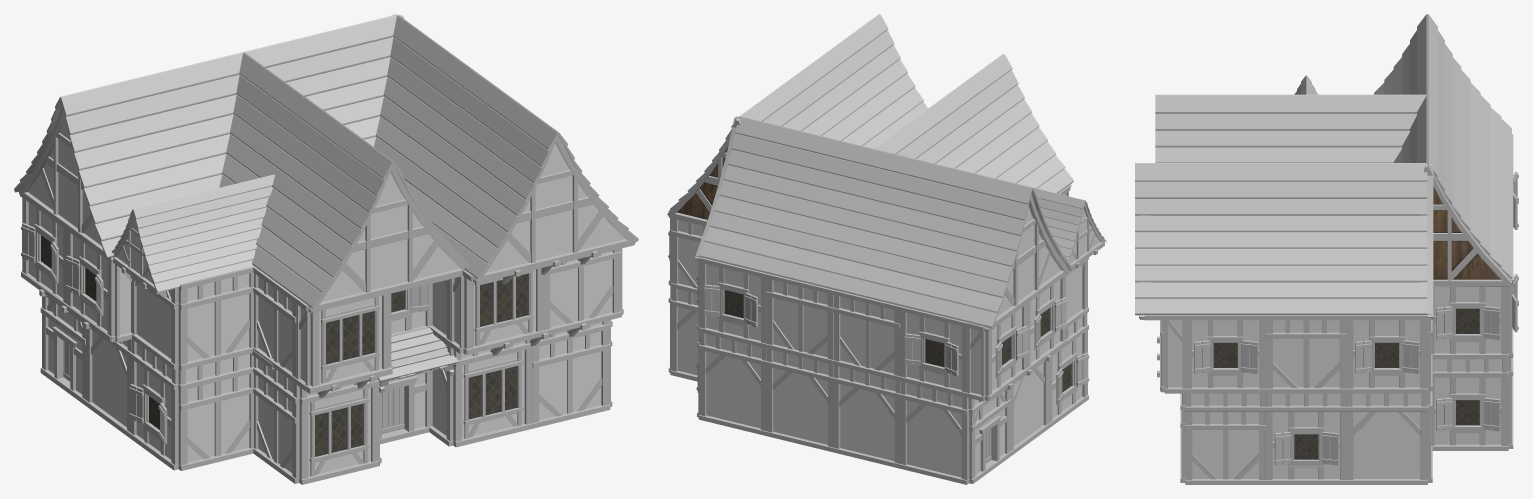
Rendered from Tavern_1A1.fbx.
The picture shows the model from 3 angles, left to right: view 1: azimuth 30°, elevation 25°; view 2: azimuth 150°, elevation 25°; view 3: azimuth 270°, elevation 25°; orthographic projection. The views are drawn at different scales.
Visible parts, largest first — view 1: Roofing, Lower_Outer_Walls, Upper_Outer_Walls, Door; view 2: Roofing, Lower_Outer_Walls, Upper_Outer_Walls; view 3: Roofing, Lower_Outer_Walls, Upper_Outer_Walls.
Part boxes in pixels (box(x1,y1,x2,y2)): Roofing: box(14, 14, 638, 312); Lower_Outer_Walls: box(40, 295, 612, 484); Upper_Outer_Walls: box(21, 198, 631, 397); Door: box(382, 386, 404, 433); Roofing: box(667, 14, 1106, 331); Lower_Outer_Walls: box(668, 285, 1089, 484); Upper_Outer_Walls: box(668, 185, 1088, 401); Roofing: box(1135, 14, 1512, 319); Lower_Outer_Walls: box(1180, 357, 1513, 484); Upper_Outer_Walls: box(1144, 134, 1518, 393).
Bounding box in the file's own units: 2206 × 1561 × 1902.
